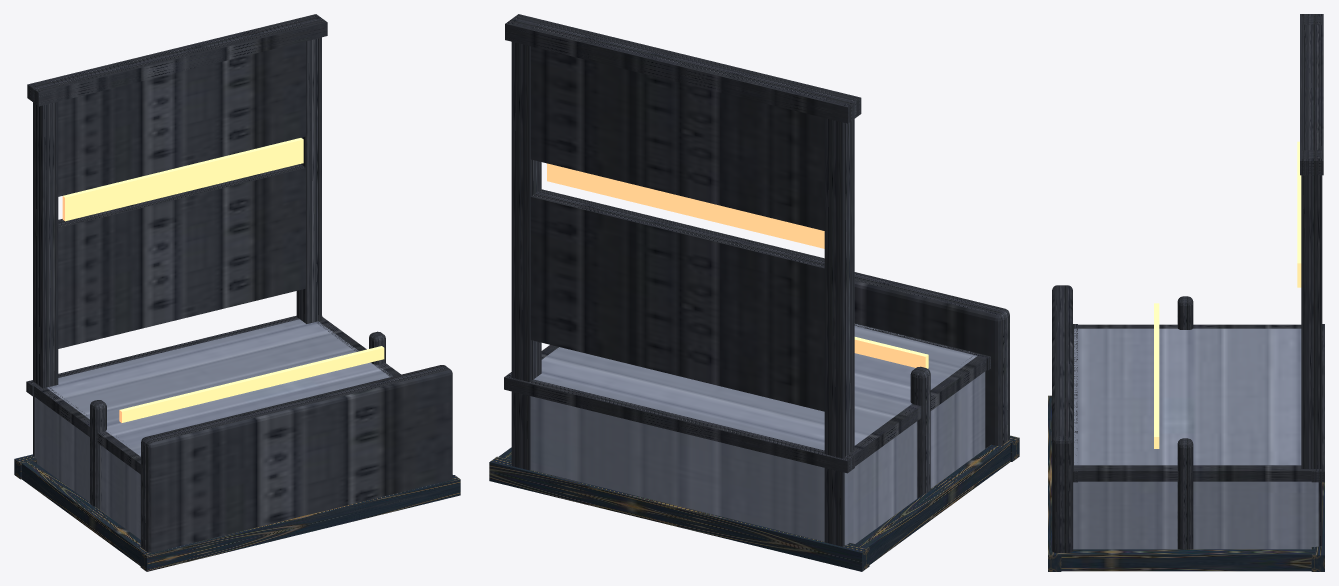
The model's file is engine_fusepanel.glb.
3 views of the same model, side by side, from view 1: azimuth 30°, elevation 25°; view 2: azimuth 150°, elevation 25°; view 3: azimuth 270°, elevation 25° (orthographic). The views are drawn at different scales.
Parts seen in each view (by area): view 1: sight_shell, panel, cab, sightglow, shelltoe0, warn, shelltoes0, shellrims0, duct0, shellrim2, shellrims2; view 2: sight_shell, cab, panel, shelltoe2, shellrim2, sightglow, shelltoes0, shellrims0, duct0, warn; view 3: cab, sight_shell, shelltoes2, panel, shellrims2, duct2, shellrims0, shelltoe0, warn, sightglow, shellrim2, duct0 (+2 smaller).
Part boxes in pixels (x1=…): sight_shell: x1=27, y1=14, x2=327, y2=456; panel: x1=141, y1=365, x2=452, y2=552; cab: x1=34, y1=319, x2=392, y2=539; sightglow: x1=62, y1=138, x2=303, y2=221; shelltoe0: x1=140, y1=475, x2=460, y2=571; warn: x1=119, y1=346, x2=384, y2=422; shelltoes0: x1=21, y1=460, x2=146, y2=565; shellrims0: x1=32, y1=383, x2=140, y2=474; duct0: x1=90, y1=400, x2=106, y2=510; shellrim2: x1=26, y1=315, x2=322, y2=396; shellrims2: x1=316, y1=316, x2=400, y2=376; sight_shell: x1=505, y1=14, x2=861, y2=546; cab: x1=530, y1=324, x2=985, y2=545; panel: x1=854, y1=272, x2=1009, y2=448; shelltoe2: x1=489, y1=456, x2=869, y2=571; shellrim2: x1=504, y1=372, x2=854, y2=473; sightglow: x1=547, y1=163, x2=824, y2=248; shelltoes0: x1=853, y1=440, x2=1012, y2=564; shellrims0: x1=849, y1=355, x2=986, y2=466; duct0: x1=910, y1=366, x2=930, y2=498; warn: x1=854, y1=337, x2=928, y2=368; cab: x1=1073, y1=328, x2=1318, y2=549; sight_shell: x1=1300, y1=14, x2=1323, y2=546; shelltoes2: x1=1057, y1=549, x2=1315, y2=571; panel: x1=1052, y1=285, x2=1072, y2=552; shellrims2: x1=1074, y1=465, x2=1315, y2=481; duct2: x1=1177, y1=438, x2=1193, y2=549; shellrims0: x1=1078, y1=324, x2=1301, y2=328; shelltoe0: x1=1048, y1=395, x2=1061, y2=571; warn: x1=1154, y1=303, x2=1159, y2=448; sightglow: x1=1297, y1=141, x2=1301, y2=287; shellrim2: x1=1311, y1=324, x2=1324, y2=482; duct0: x1=1177, y1=296, x2=1193, y2=329.
Bounding box in the file's own units: 1.44 × 1.7 × 1.05.
7 materials, 5 textured.
